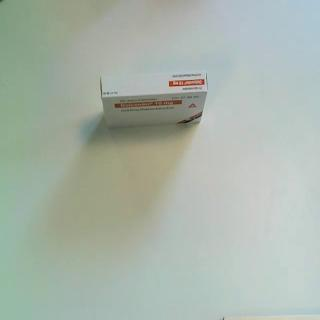dolcontin10mg: (99, 67, 209, 131)
